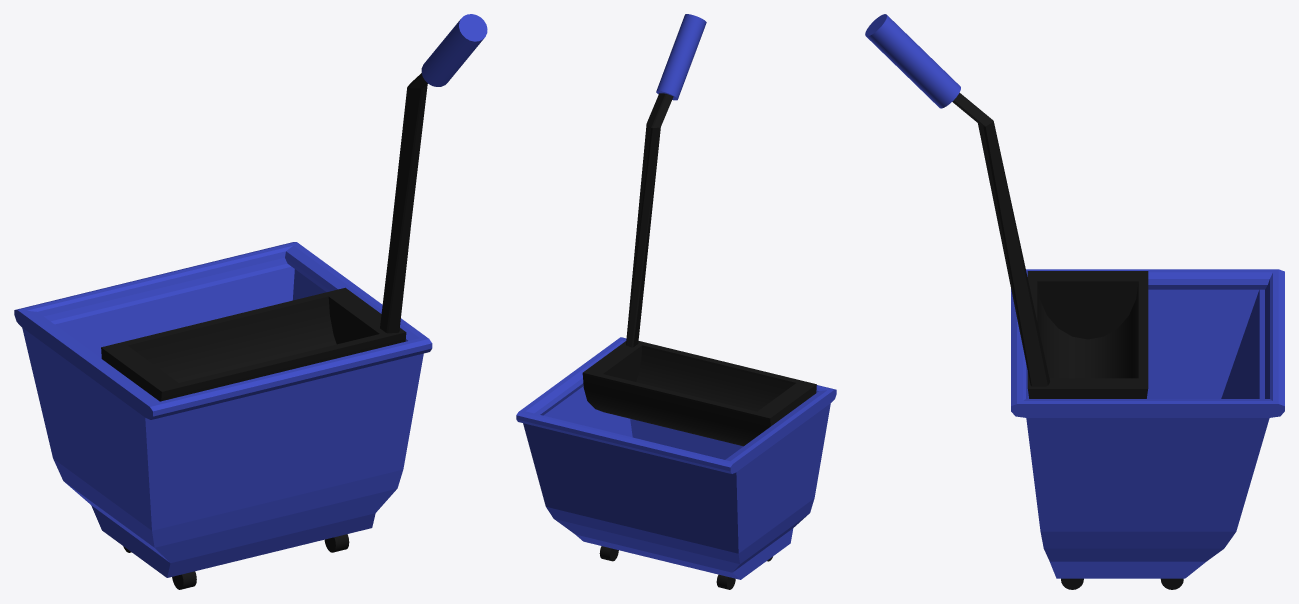
Rendered from MOPBUCKET.fbx.
The picture shows the model from 3 angles, left to right: view 1: azimuth 30°, elevation 25°; view 2: azimuth 150°, elevation 25°; view 3: azimuth 270°, elevation 25°; orthographic projection. The views are drawn at different scales.
Parts seen in each view (by area): view 1: pCube1, pCylinder10, pCylinder5; view 2: pCube1, pCylinder10, pCylinder5; view 3: pCube1, pCylinder10.
Part boxes in pixels (left/top/right/bottom): pCube1: left=14, top=242, right=432, bottom=577; pCylinder10: left=101, top=14, right=487, bottom=401; pCylinder5: left=123, top=534, right=349, bottom=589; pCube1: left=516, top=337, right=836, bottom=579; pCylinder10: left=582, top=14, right=816, bottom=446; pCylinder5: left=599, top=546, right=772, bottom=589; pCube1: left=1011, top=269, right=1284, bottom=578; pCylinder10: left=865, top=14, right=1148, bottom=398.
Size of the model in its own units: 3.47 by 7.07 by 4.57.
